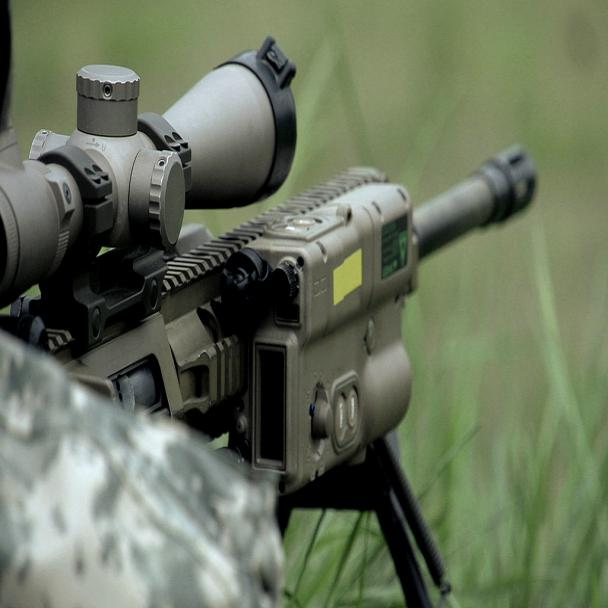Gun: (0, 36, 546, 456)
